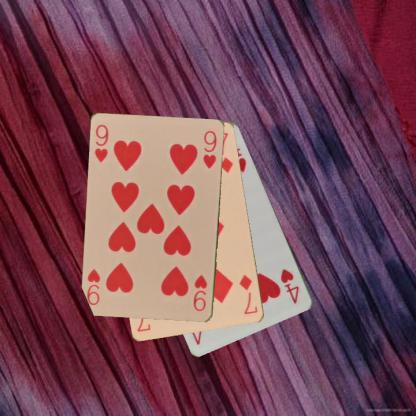4h: (278, 265, 301, 306)
7d: (237, 272, 259, 316)
9h: (92, 122, 110, 164), (191, 272, 209, 313)
